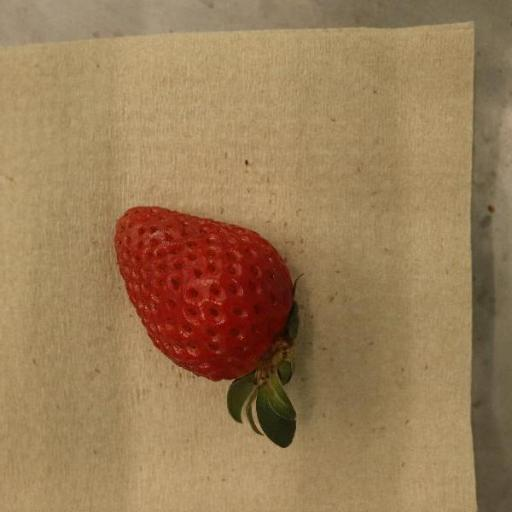Strawberry: (115, 206, 300, 450)
